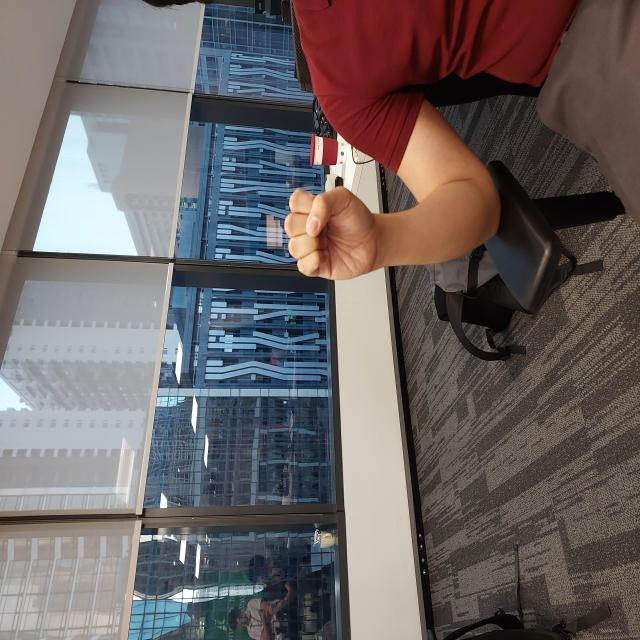S: (358, 283, 458, 383)
